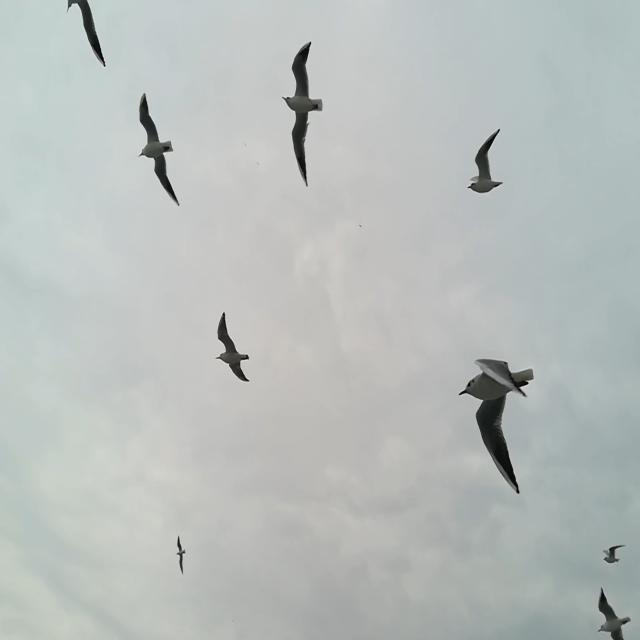bird: (458, 358, 535, 496), (281, 42, 324, 190), (138, 90, 180, 207), (215, 309, 252, 383), (66, 0, 106, 67), (466, 129, 505, 194), (596, 587, 632, 639), (175, 534, 188, 576), (602, 544, 625, 565)
